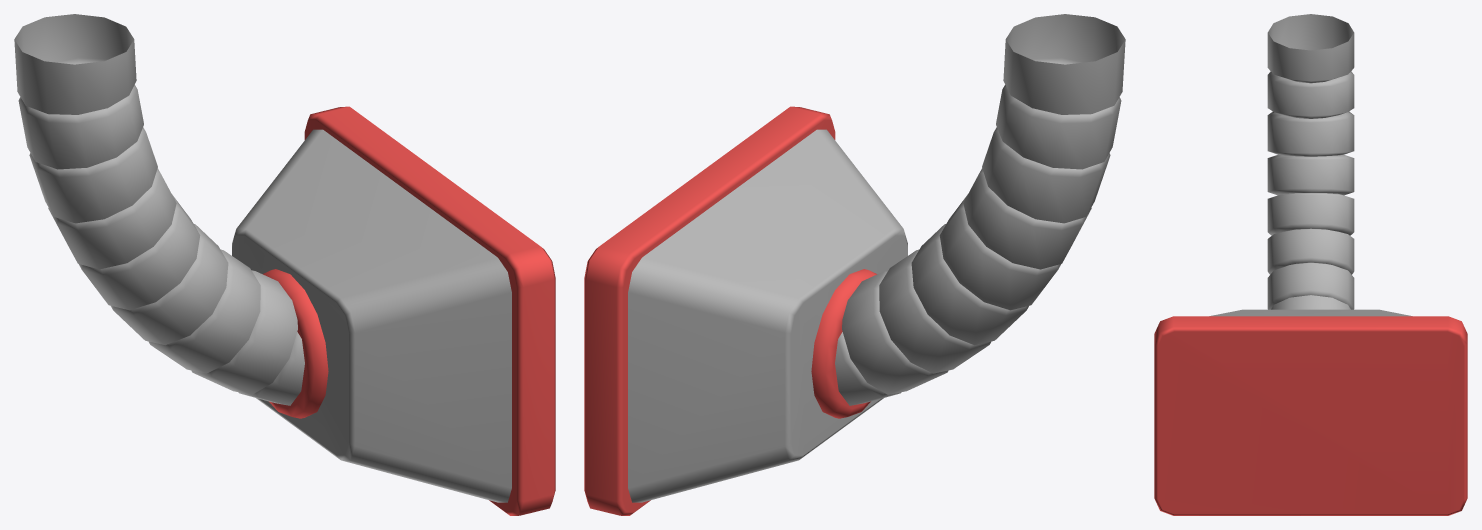
File: obstacle_5_002.fbx
3 views of the same model, side by side, from view 1: azimuth 30°, elevation 25°; view 2: azimuth 150°, elevation 25°; view 3: azimuth 270°, elevation 25° (orthographic). The views are drawn at different scales.
Parts seen in each view (by area): view 1: obstacle_5_002; view 2: obstacle_5_002; view 3: obstacle_5_002.
Boxes of the visible parts, bbox=[...] form: obstacle_5_002: bbox=[14, 14, 555, 515]; obstacle_5_002: bbox=[584, 14, 1125, 515]; obstacle_5_002: bbox=[1154, 14, 1467, 515].
Bounding box in the file's own units: 693 × 610 × 759.
